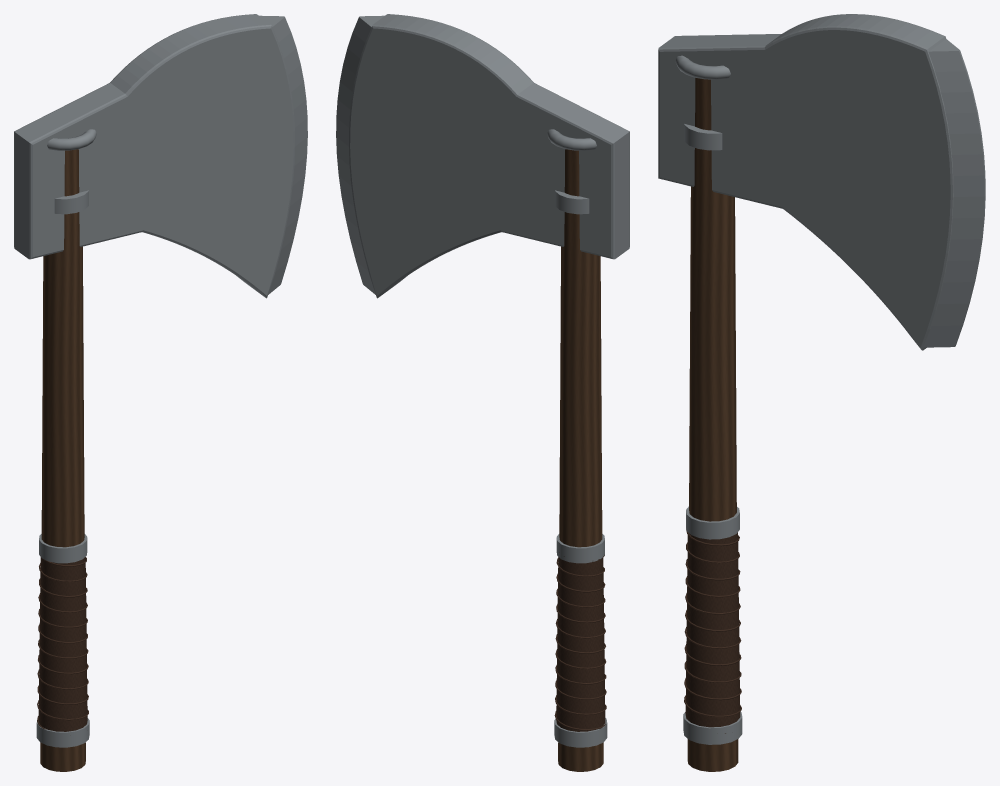
Rendered from corealm_axe_2.glb.
The picture shows the model from 3 angles, left to right: view 1: azimuth 30°, elevation 25°; view 2: azimuth 150°, elevation 25°; view 3: azimuth 330°, elevation 25°; orthographic projection. The views are drawn at different scales.
Parts seen in each view (by area): view 1: corealm-weapon-metal, corealm-weapon-wood, corealm-weapon-leather, corealm-weapon-blade; view 2: corealm-weapon-metal, corealm-weapon-wood, corealm-weapon-leather, corealm-weapon-blade; view 3: corealm-weapon-metal, corealm-weapon-wood, corealm-weapon-leather, corealm-weapon-blade.
Part boxes in pixels (<box>): corealm-weapon-metal: <box>14,14,294,747</box>; corealm-weapon-wood: <box>40,149,85,771</box>; corealm-weapon-leather: <box>37,556,88,731</box>; corealm-weapon-blade: <box>259,15,307,294</box>; corealm-weapon-metal: <box>349,14,629,747</box>; corealm-weapon-wood: <box>558,149,603,771</box>; corealm-weapon-leather: <box>554,552,606,731</box>; corealm-weapon-blade: <box>336,15,384,294</box>; corealm-weapon-metal: <box>658,14,953,744</box>; corealm-weapon-wood: <box>687,78,738,771</box>; corealm-weapon-leather: <box>684,528,741,733</box>; corealm-weapon-blade: <box>923,39,985,347</box>.
Bounding box in the file's own units: 0.3588 × 0.838 × 0.074.
4 materials, 2 textured.
